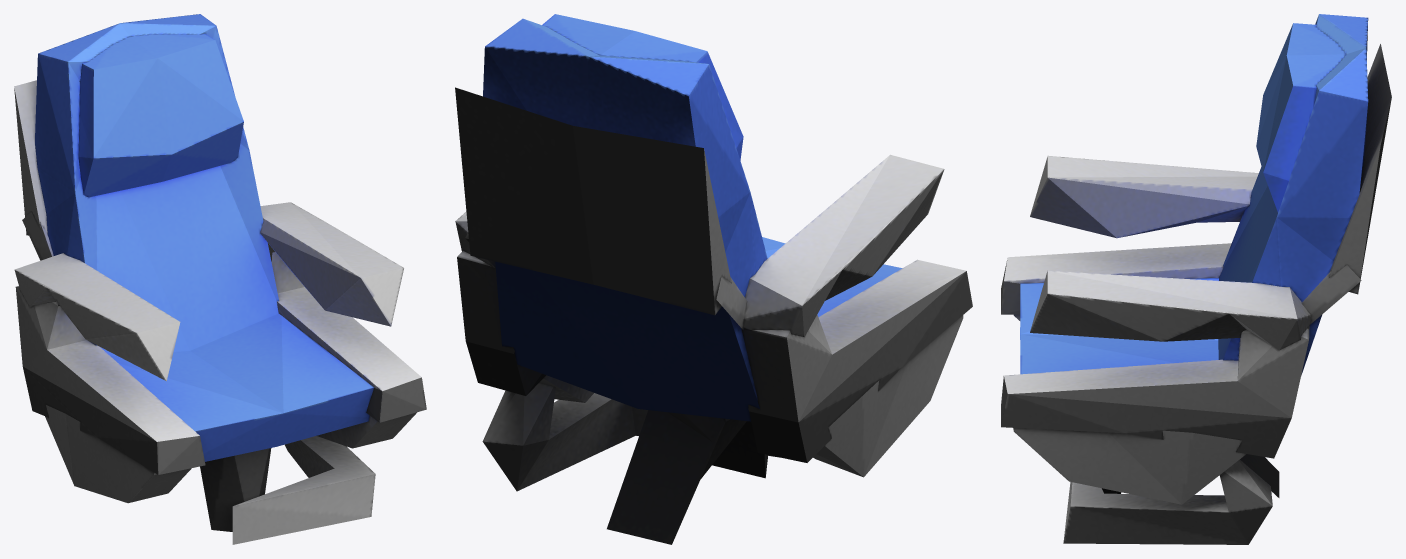
File: low-poly-airplane-seat.glb
The picture shows the model from 3 angles, left to right: view 1: azimuth 30°, elevation 25°; view 2: azimuth 150°, elevation 25°; view 3: azimuth 270°, elevation 25°; orthographic projection. The views are drawn at different scales.
Visible parts, largest first — view 1: lowpolyblueseat; view 2: lowpolyblueseat; view 3: lowpolyblueseat.
Part boxes in pixels (x1,y1,x2,y2): lowpolyblueseat: (14,14,426,544); lowpolyblueseat: (455,14,972,544); lowpolyblueseat: (1001,14,1391,544).
Bounding box in the file's own units: 0.7751 × 1.12 × 0.8969.
1 material, 1 textured.
